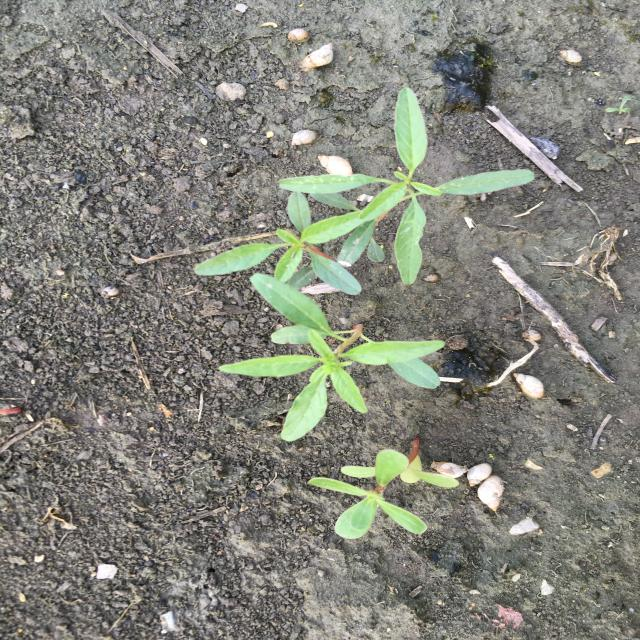Purslane: (304, 438, 461, 540)
Waterhemp: (276, 86, 536, 287), (216, 274, 448, 445), (192, 191, 381, 296)
